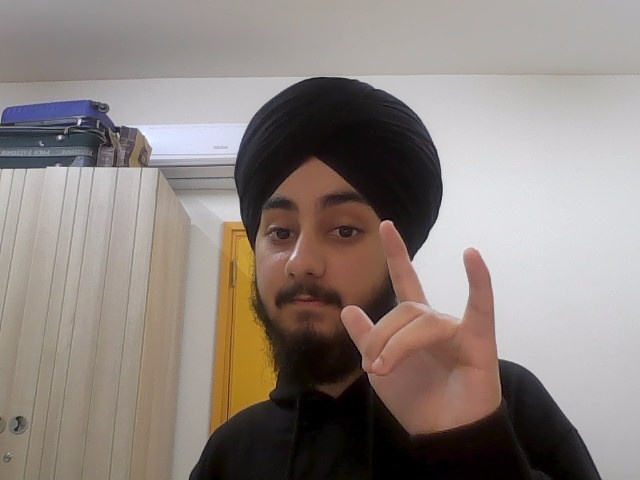ILoveYou: (342, 217, 504, 436)
